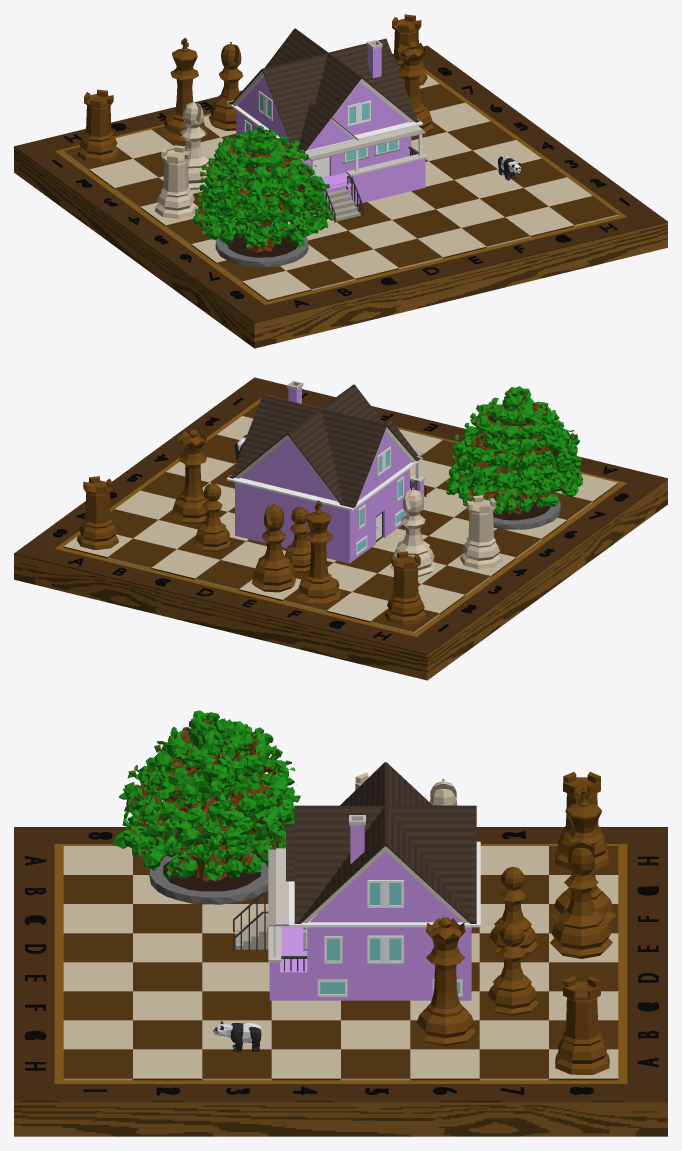
The picture shows the model from 3 angles, top to bottom: view 1: azimuth 30°, elevation 25°; view 2: azimuth 150°, elevation 25°; view 3: azimuth 270°, elevation 25°; orthographic projection. The views are drawn at different scales.
Parts seen in each view (by area): view 1: Cube.002, Cube.391, OBJRANDOM_CEIBA; view 2: Cube.002, Cube.391, OBJRANDOM_CEIBA; view 3: Cube.002, Cube.391, OBJRANDOM_CEIBA, ANIMAL_PANDA.
Boxes of the visible parts, x1,y1,x2,y2 form: Cube.002: (14, 14, 667, 348); Cube.391: (227, 28, 428, 222); OBJRANDOM_CEIBA: (193, 125, 334, 267); Cube.002: (14, 377, 667, 680); Cube.391: (226, 380, 426, 563); OBJRANDOM_CEIBA: (445, 386, 582, 529); Cube.002: (14, 772, 667, 1136); Cube.391: (233, 762, 480, 1000); OBJRANDOM_CEIBA: (112, 710, 300, 904); ANIMAL_PANDA: (213, 1021, 261, 1051).
Size of the model in its own units: 3981 by 1484 by 4012.
30 materials, 2 textured.
